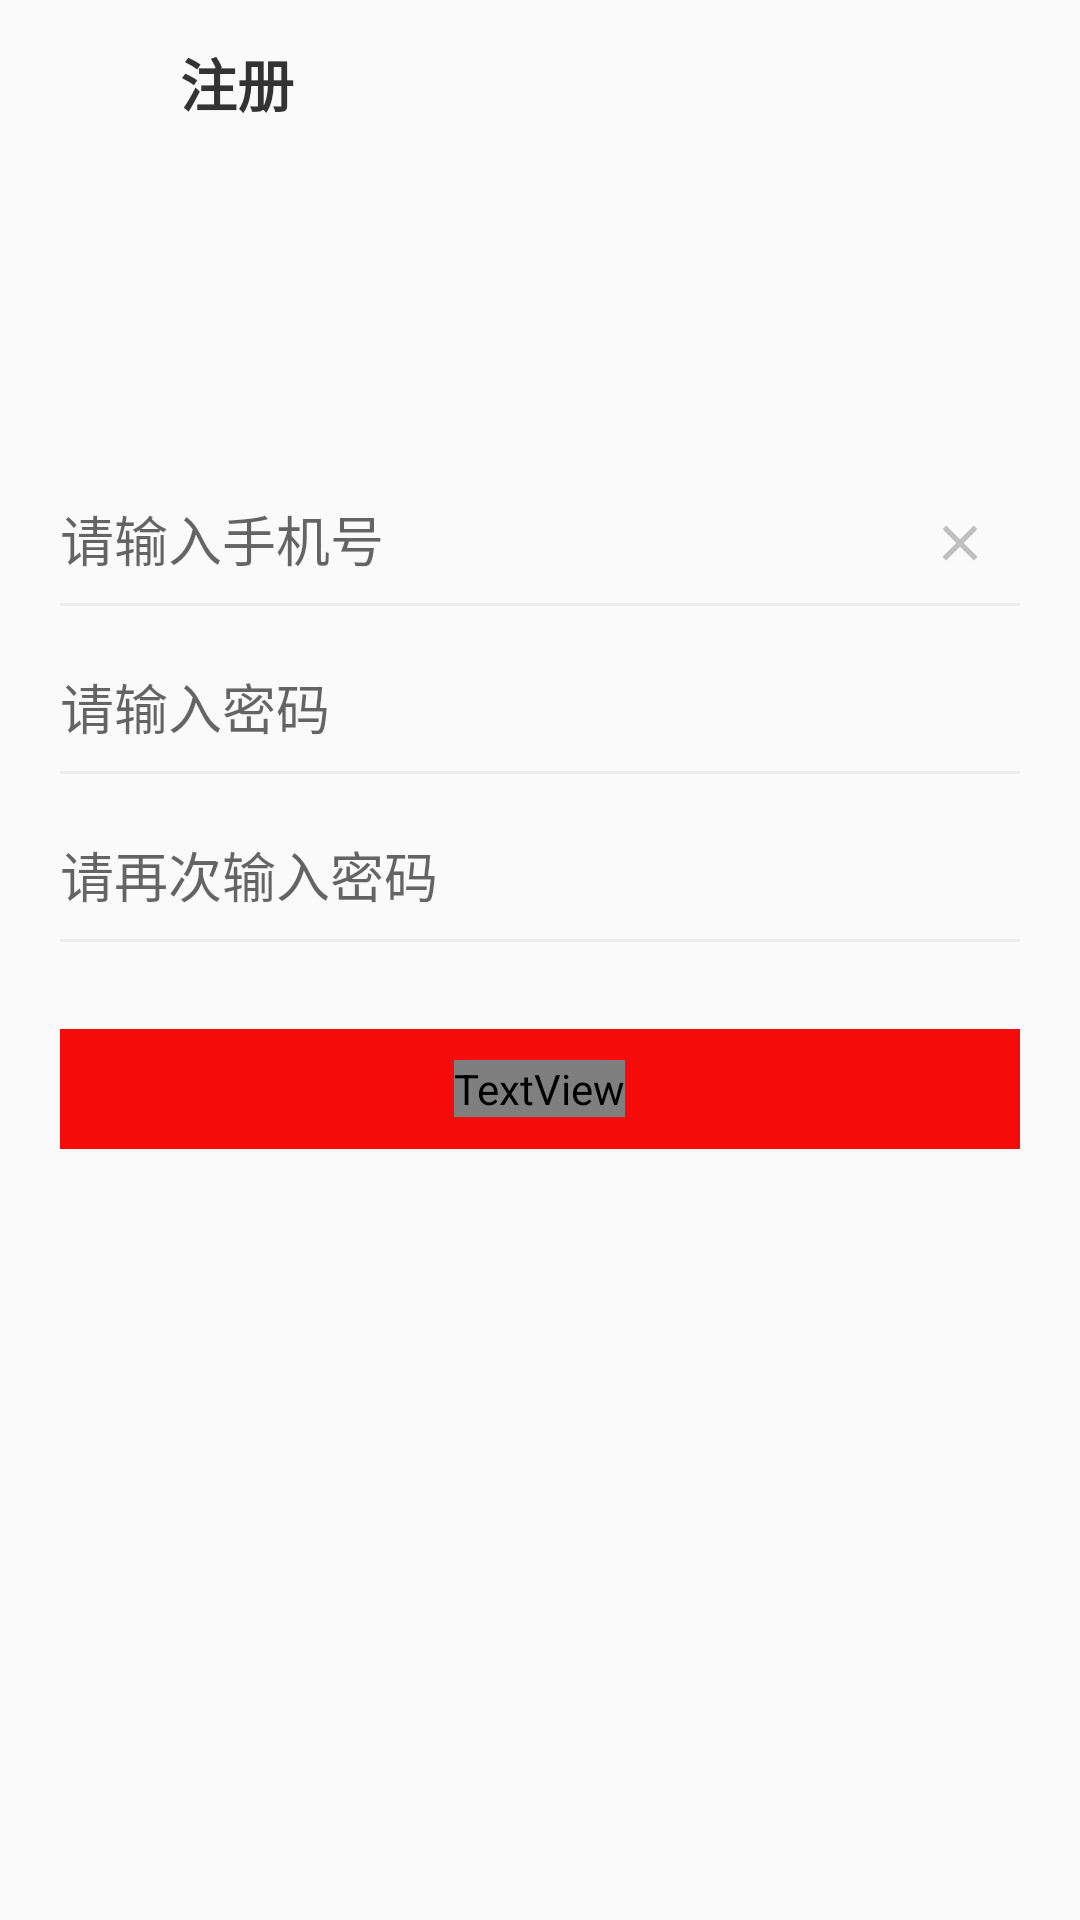

Icon click points for this 1080*1920 phone screenshot, format [x,y]:
close: [960,543]
